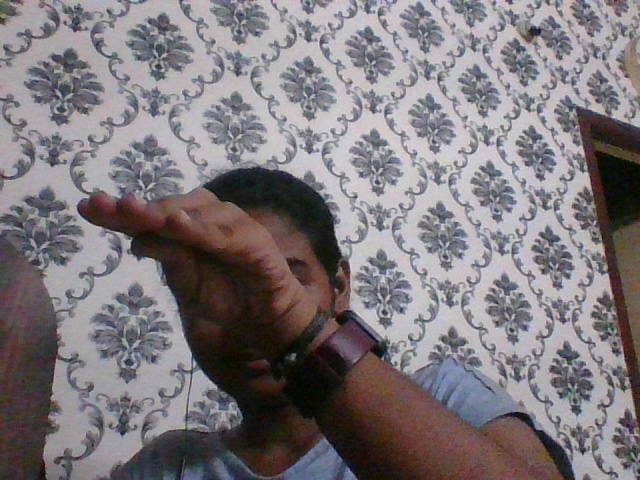no: (62, 181, 306, 322)
